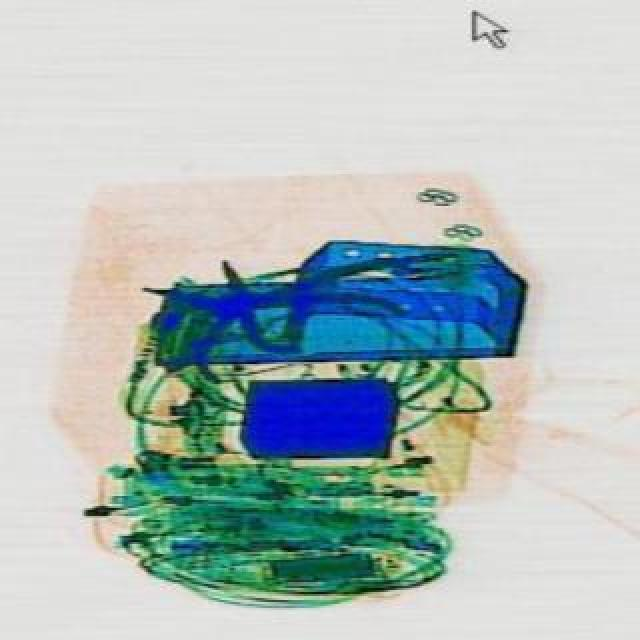wrench: (114, 184, 402, 444)
